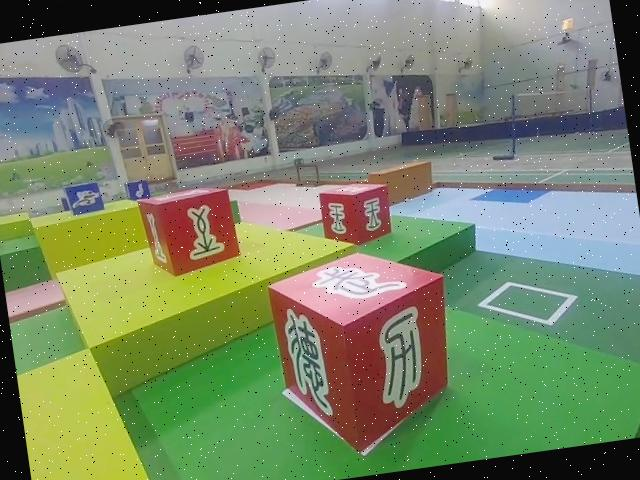R2 Fake: (261, 239, 464, 468)
R2 Real: (137, 188, 242, 280), (313, 178, 393, 247)
